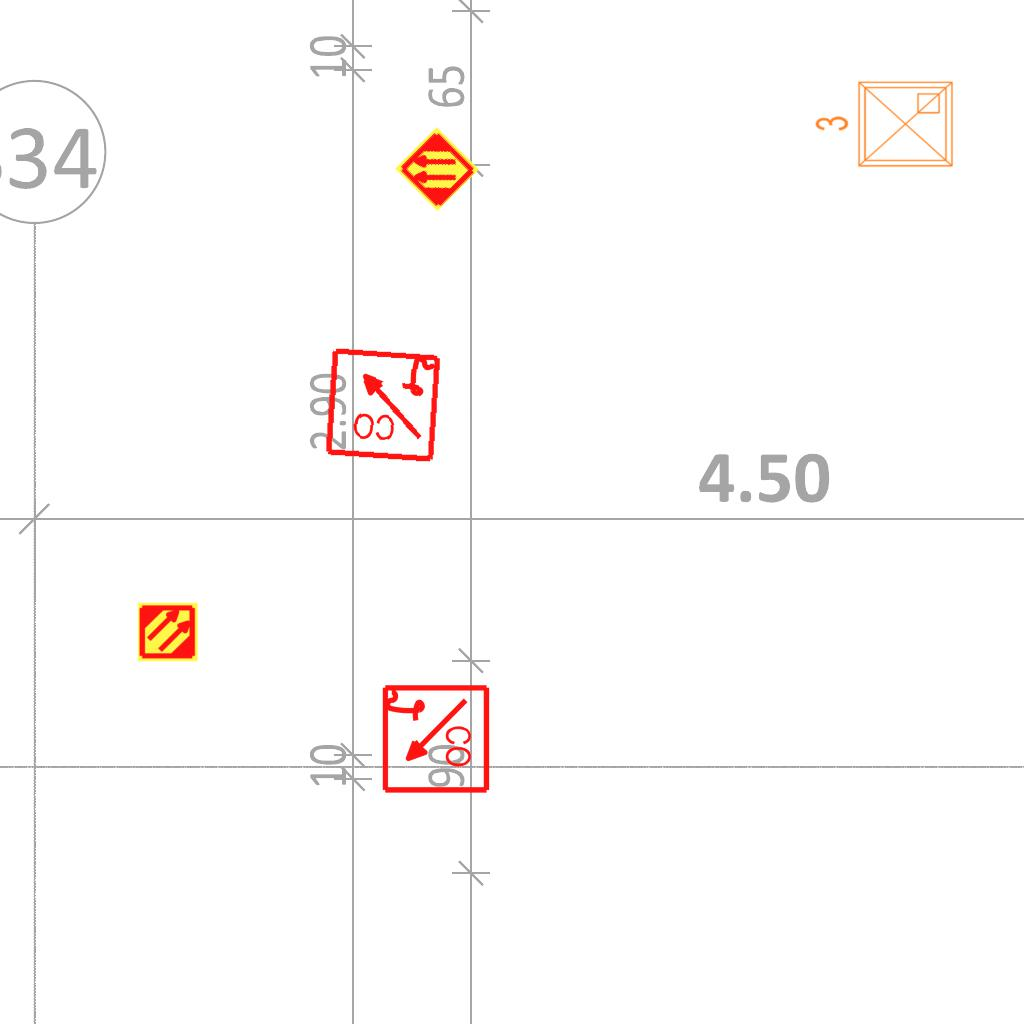ASR_Ansaugrauchmelder: (393, 125, 481, 213), (137, 601, 199, 663)
Einbaudownlights_LED_Konferenzraeume: (810, 74, 960, 178)
ROA_Rauchmelder_optisch_mit_Signalgeber_(Sockelsirene): (322, 343, 443, 464), (378, 683, 491, 796)
